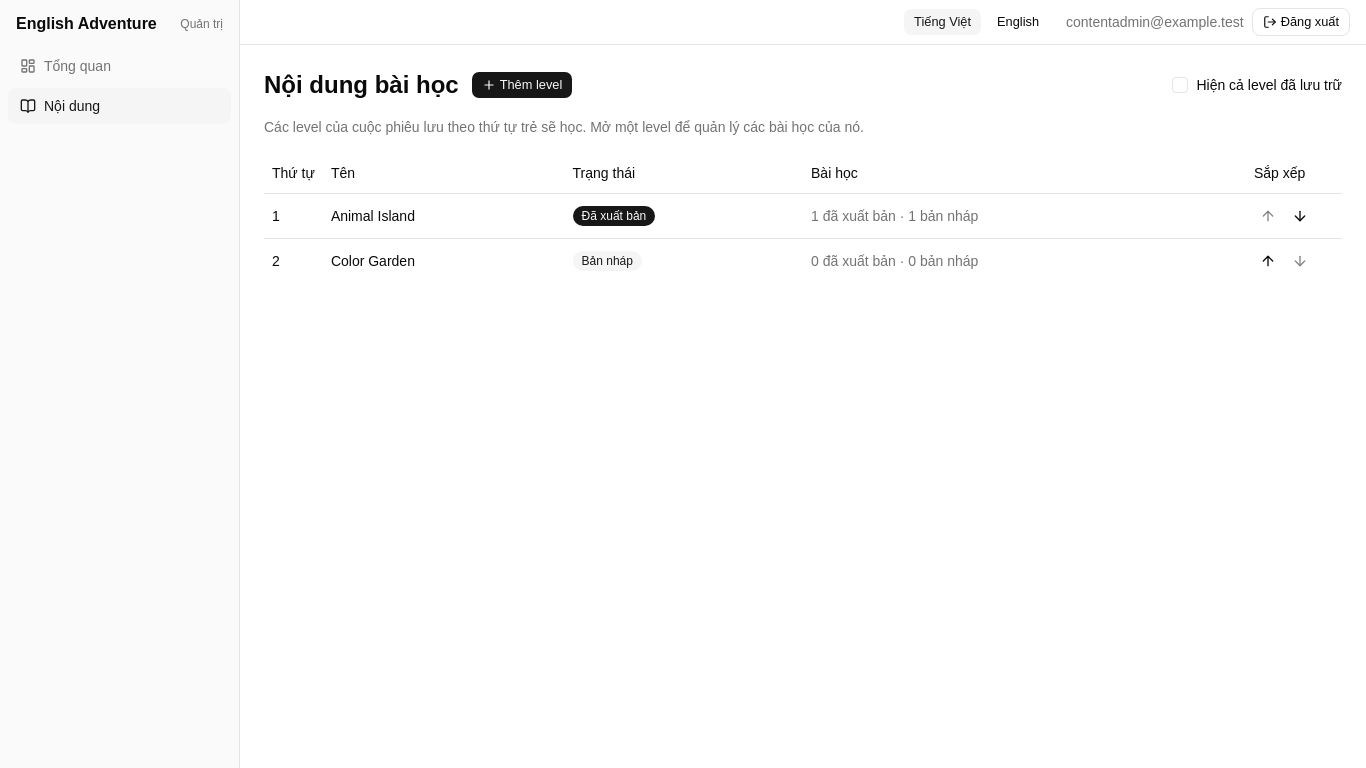
levels list › shows the levels in order with their status and lesson counts, archived ones on request
Expected: the number of rows is 3, [264,153,1342,193]; [264,193,1342,238]; [264,238,1342,282]
Expected: the link "Animal Island" is shown, [331,208,415,224]
Click the checkbox named "Hiện cả level đã lưu trữ" at (1180, 85), box [1172,77,1188,93]
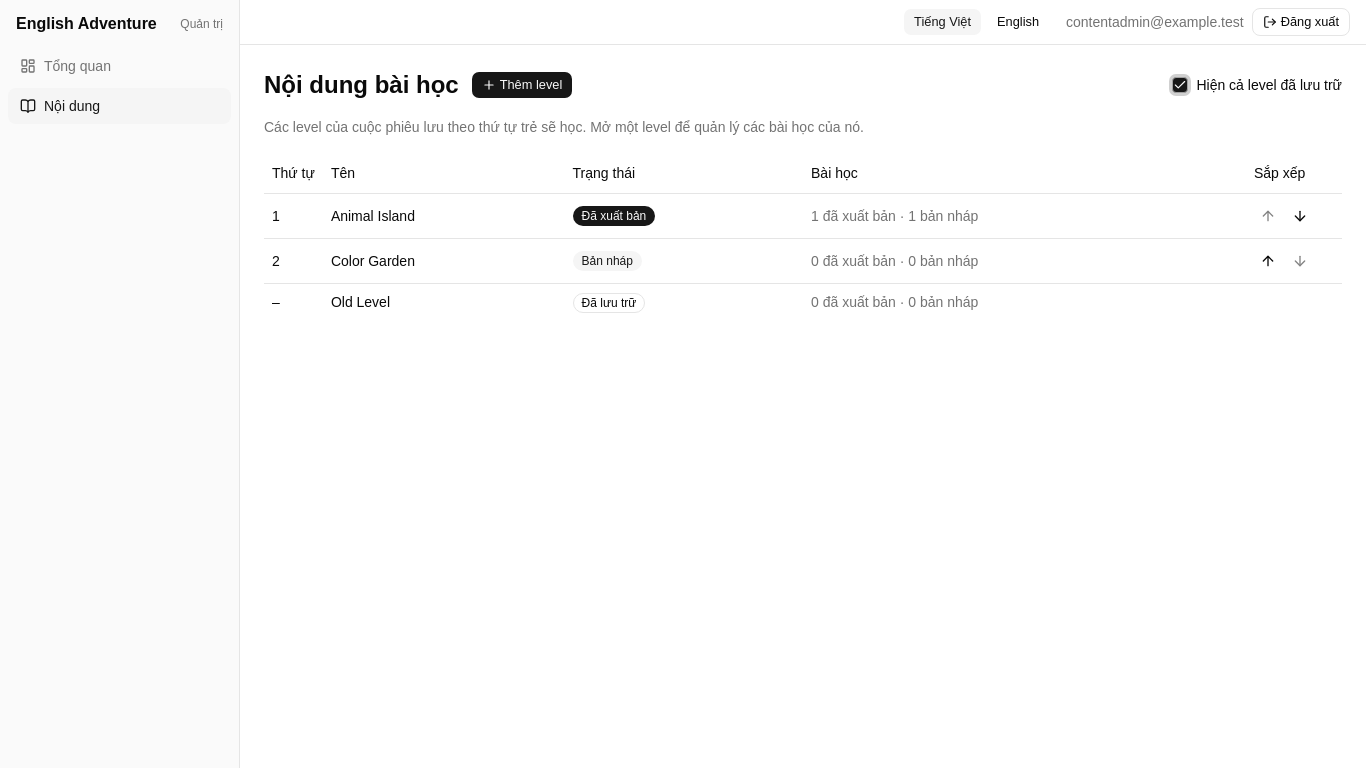
Expected: the link "Old Level" is shown, [331,294,390,310]
Expected: the text "Đã lưu trữ" is shown, [573,292,645,312]
